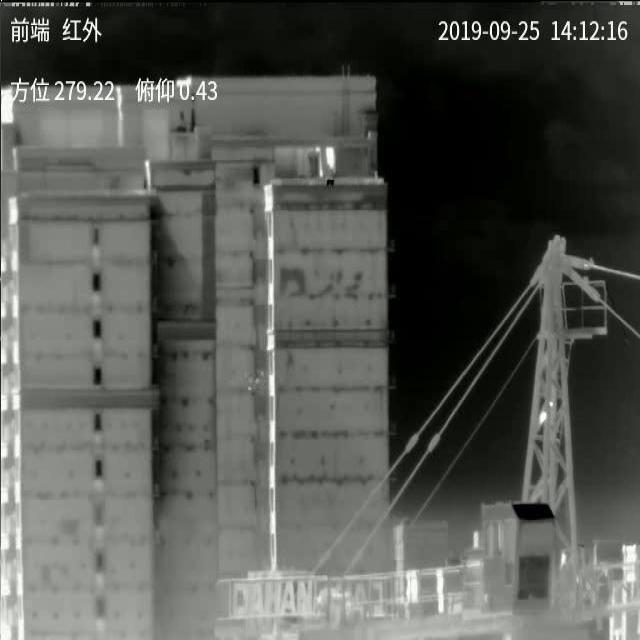drone: (243, 370, 264, 392)
